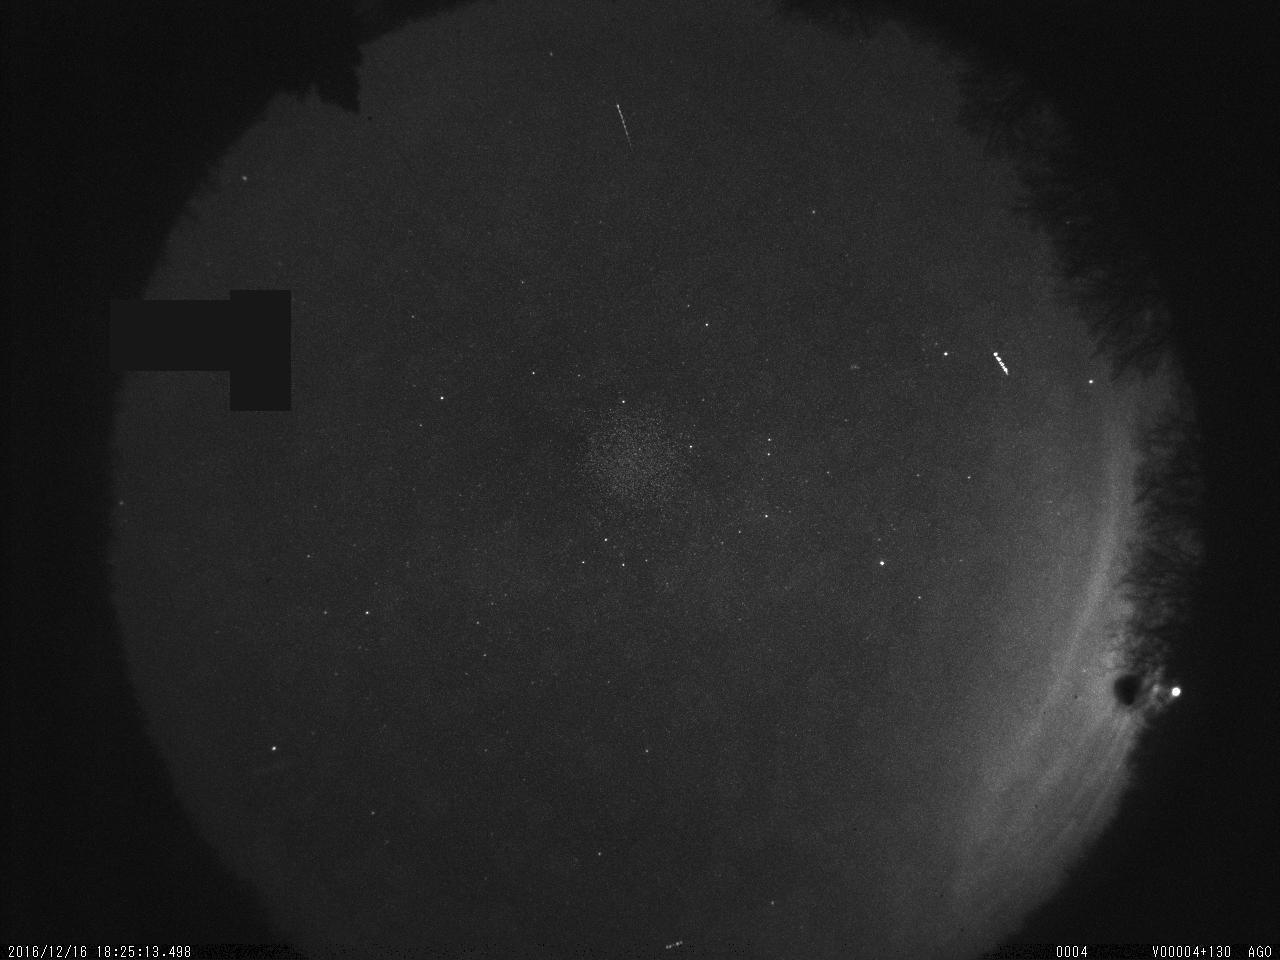Meteor: (612, 98, 636, 152)
